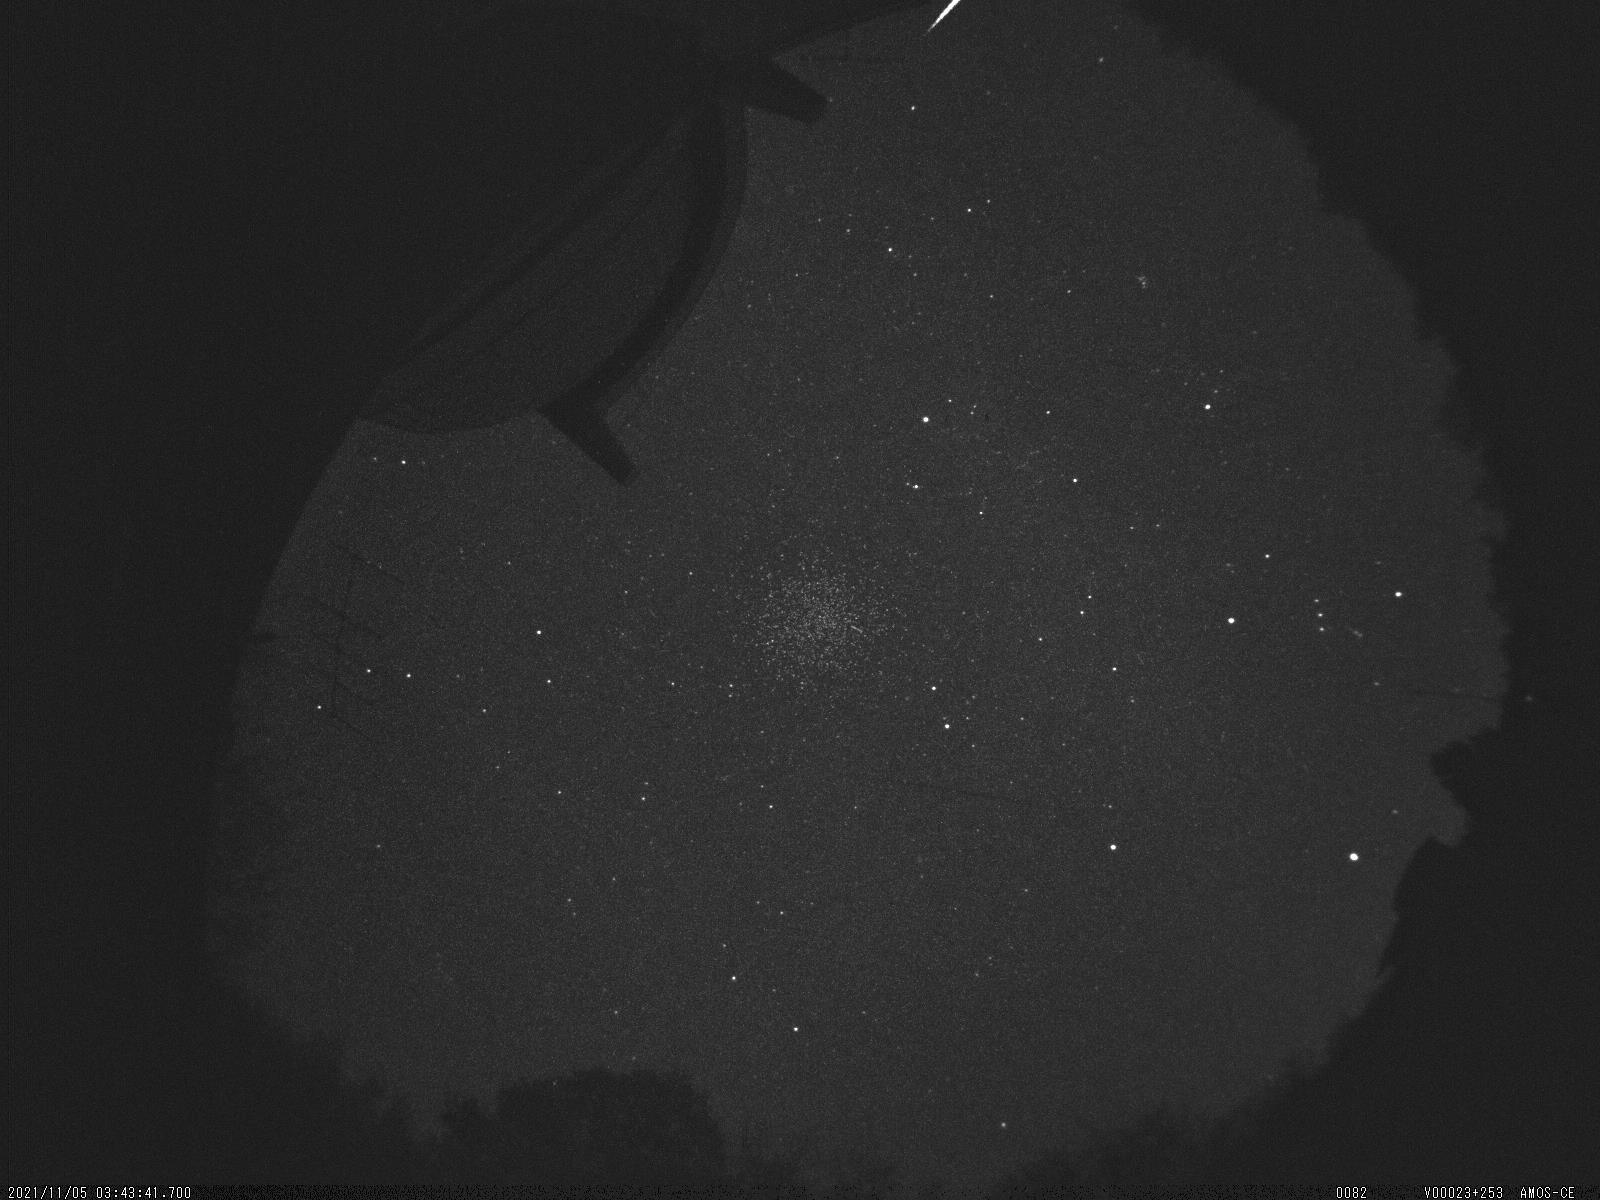Meteor: (921, 0, 968, 42)
